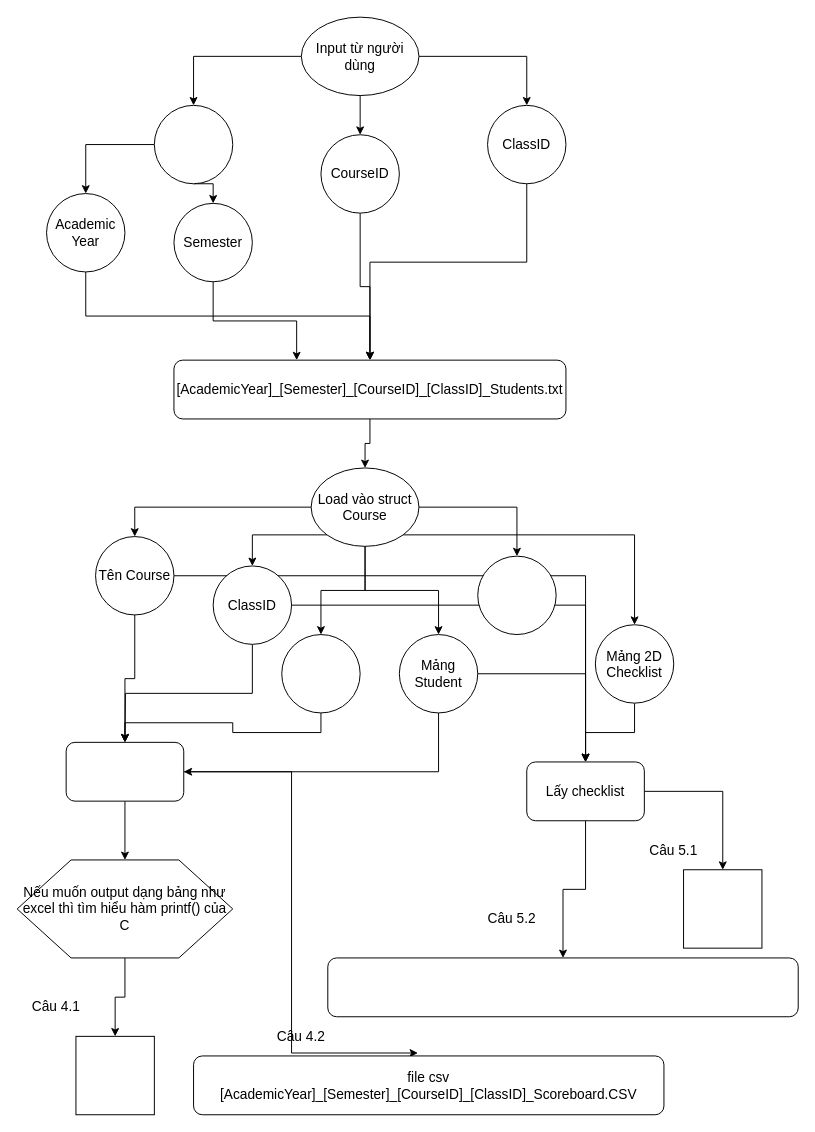
Image size: 815x1132. Some labels were removed from this diagram. The shapes that lost their labels are listed below. From the top down, each one's centre as x and y in pixels, then its label:
the point at 193,144: Struct Semester
the point at 516,595: nWeeks
the point at 320,673: Mảng Struct Score
the point at 124,771: Lấy scoreboard
the point at 722,908: In ra màn hình console
the point at 562,987: file csv [AcademicYear]_[Semester]_[CourseID]_[ClassID]_Attendance.CSV
the point at 114,1075: Scoreboard trên màn hình console
